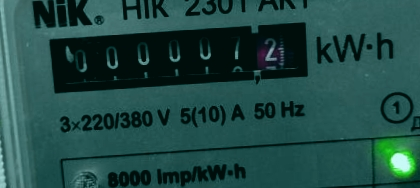0: (70, 45, 88, 73), (133, 38, 150, 67), (164, 36, 182, 63), (102, 42, 119, 70), (196, 33, 212, 62)
2: (261, 36, 278, 62)
7: (227, 31, 243, 62)
screen: (36, 15, 319, 98)
